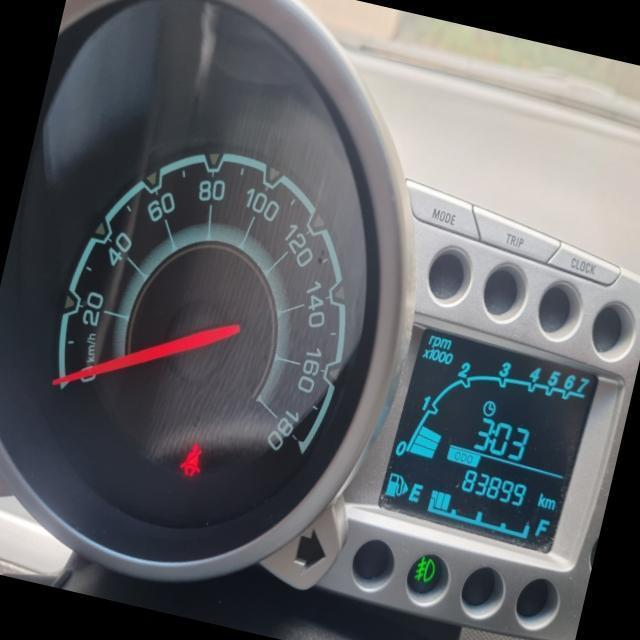FrontFogLight: (412, 553, 437, 584)
